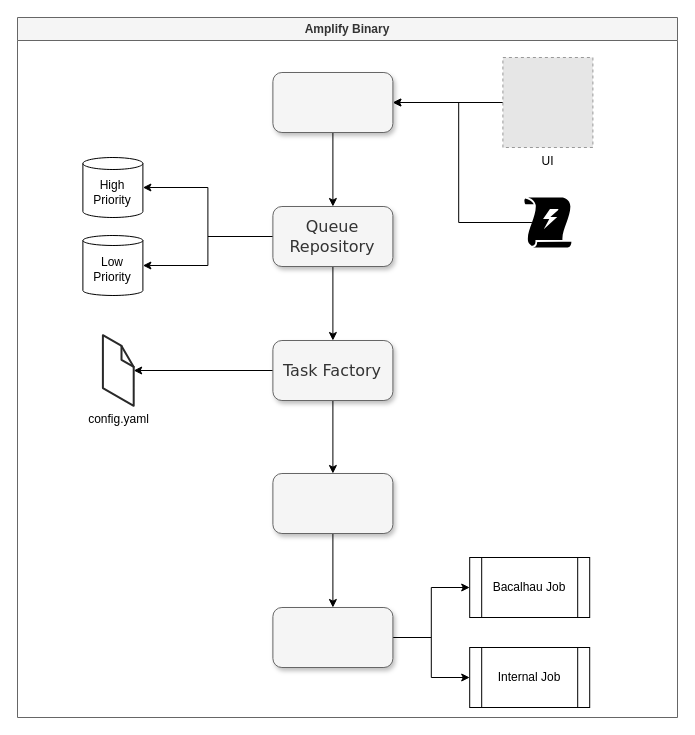
The diagram is 695 pixels wide and 735 high, and some of its shapes have lost their labels. Grey dashed boxes stand in for pictures. Each missing label, with the centre of its shape:
"API Server" belongs at pixel 333 104.
"Executor" belongs at pixel 333 638.
"Job Queue" belongs at pixel 333 504.
"Triggers" belongs at pixel 547 222.
